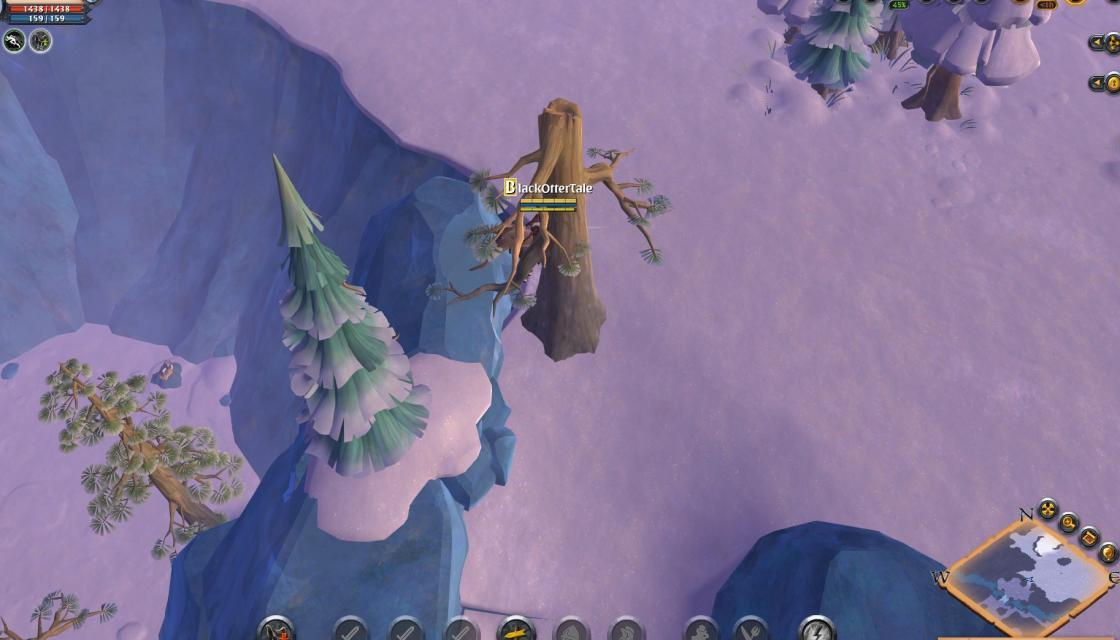copperore: (145, 358, 187, 390)
